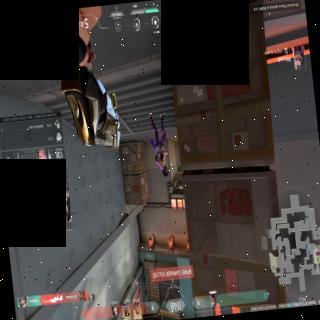ENEMY-BODY: (148, 109, 172, 178)
ENEMY-HEAD: (162, 165, 168, 176)
